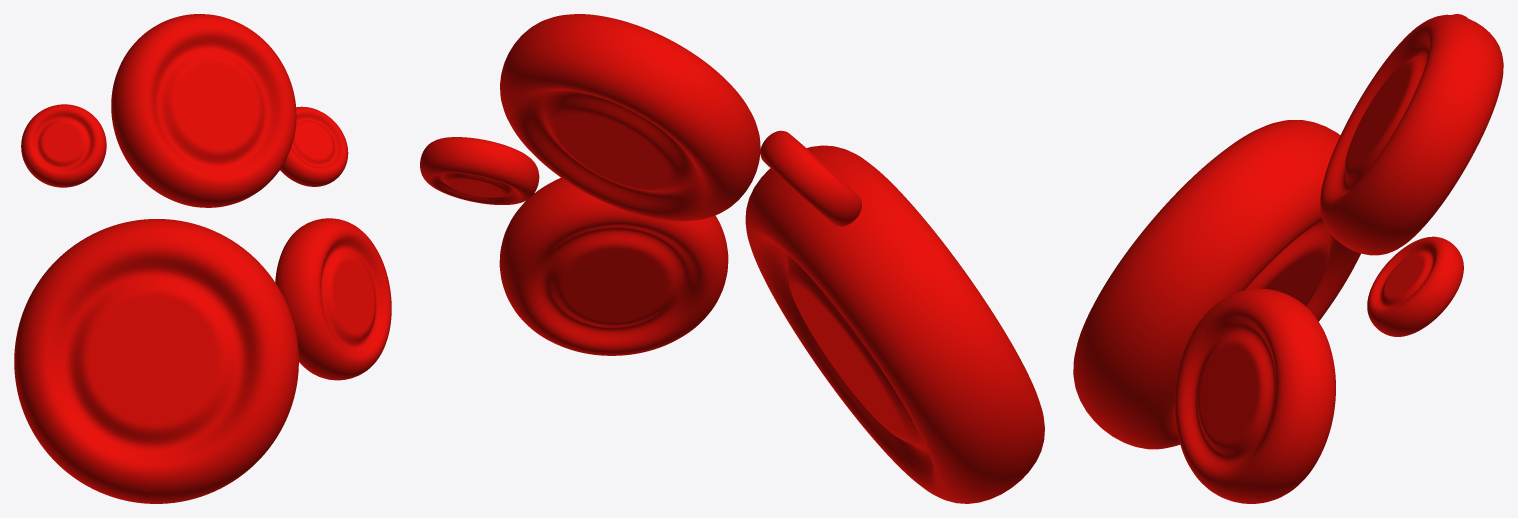
The model's file is 3d-hemoglobin.glb.
3 views of the same model, side by side, from view 1: azimuth 30°, elevation 25°; view 2: azimuth 150°, elevation 25°; view 3: azimuth 270°, elevation 25° (orthographic). The views are drawn at different scales.
Parts seen in each view (by area): view 1: Sphere.042, Sphere.043, Sphere.044, Sphere.045, Sphere.046; view 2: Sphere.042, Sphere.043, Sphere.044, Sphere.046, Sphere.045; view 3: Sphere.042, Sphere.043, Sphere.044, Sphere.046.
Part boxes in pixels (<box>): Sphere.042: <box>14,219,298,503</box>; Sphere.043: <box>111,14,296,207</box>; Sphere.044: <box>275,218,391,380</box>; Sphere.045: <box>21,104,106,187</box>; Sphere.046: <box>280,106,348,186</box>; Sphere.042: <box>745,145,1044,503</box>; Sphere.043: <box>500,14,760,221</box>; Sphere.044: <box>499,178,728,355</box>; Sphere.046: <box>420,137,539,204</box>; Sphere.045: <box>760,130,861,226</box>; Sphere.042: <box>1073,120,1360,449</box>; Sphere.043: <box>1320,14,1503,255</box>; Sphere.044: <box>1174,288,1335,503</box>; Sphere.046: <box>1367,236,1463,336</box>.
Size of the model in its own units: 5.44 by 5.16 by 4.08.
